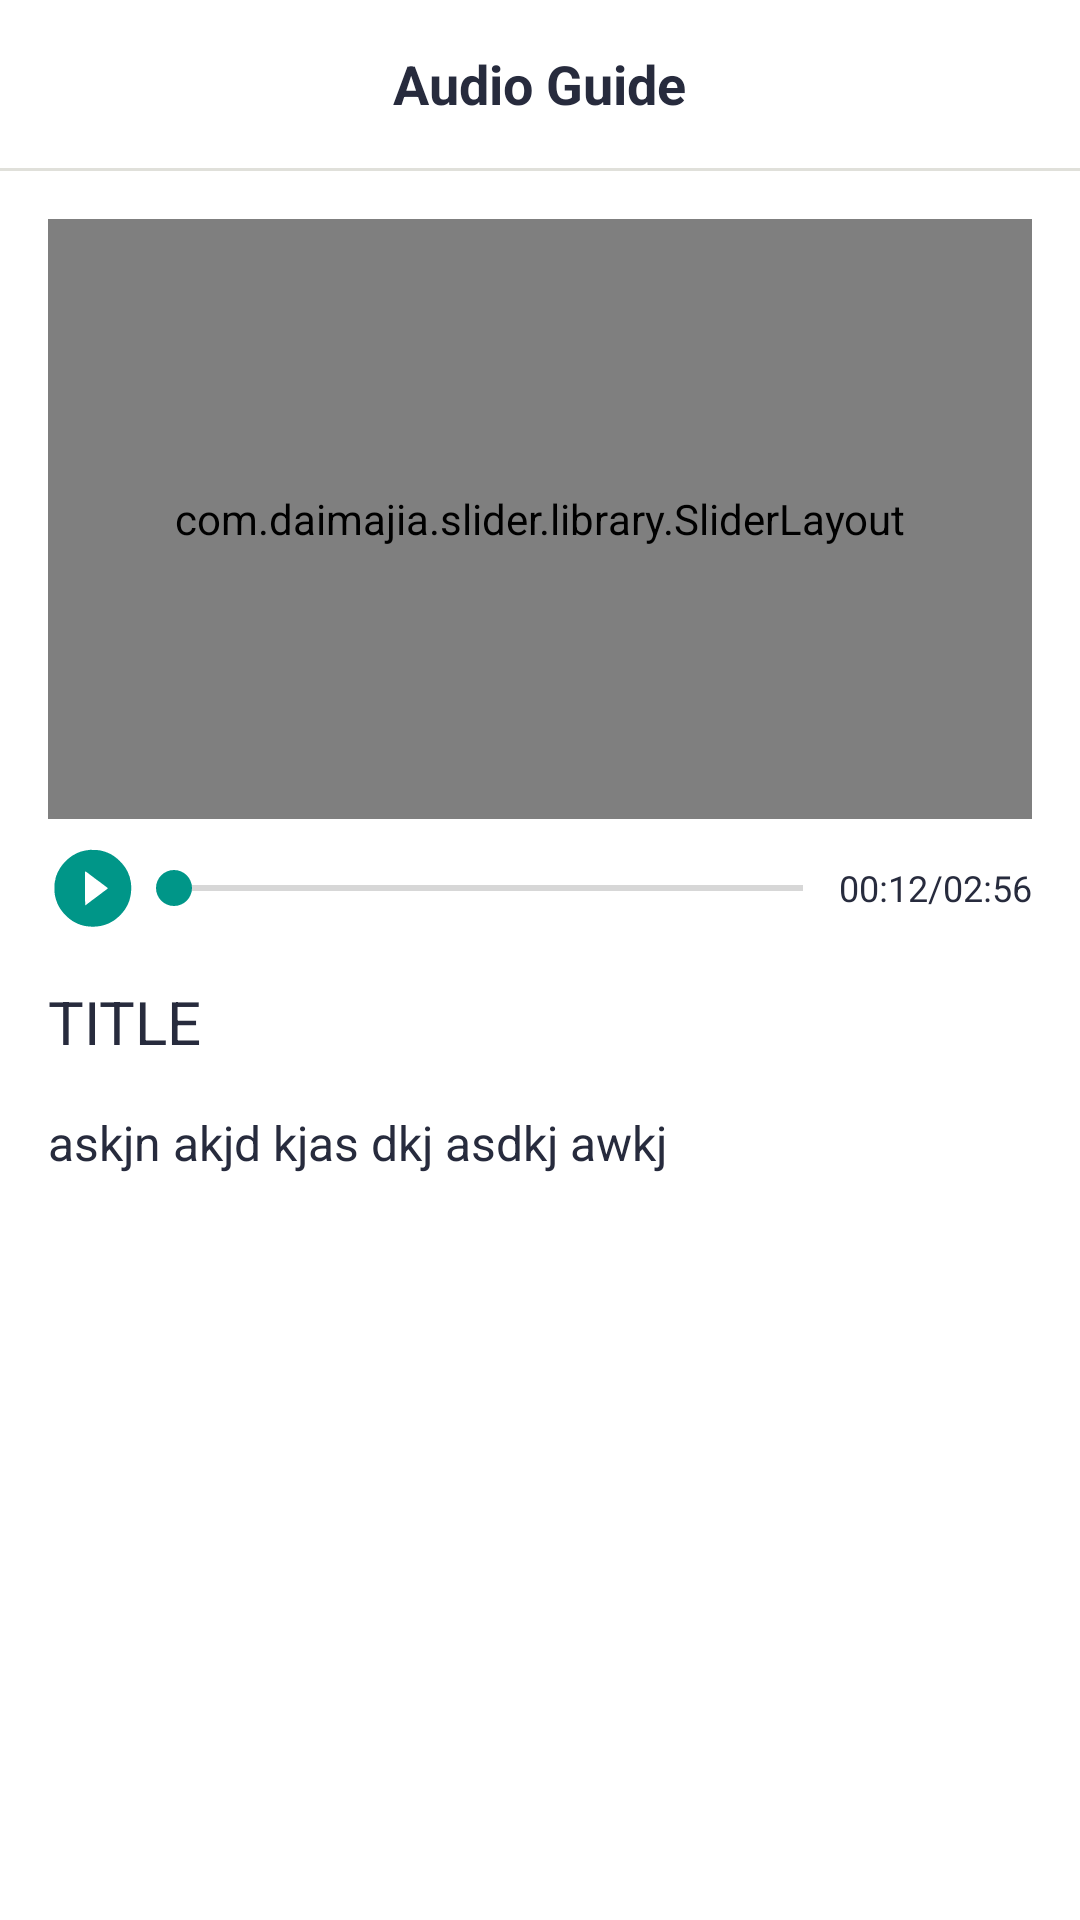

Locate icon controls on the screen. Image size 1080 x 1920, boxes as bbox(x1, y1, x2, y2).
play: bbox(54, 849, 132, 927)
